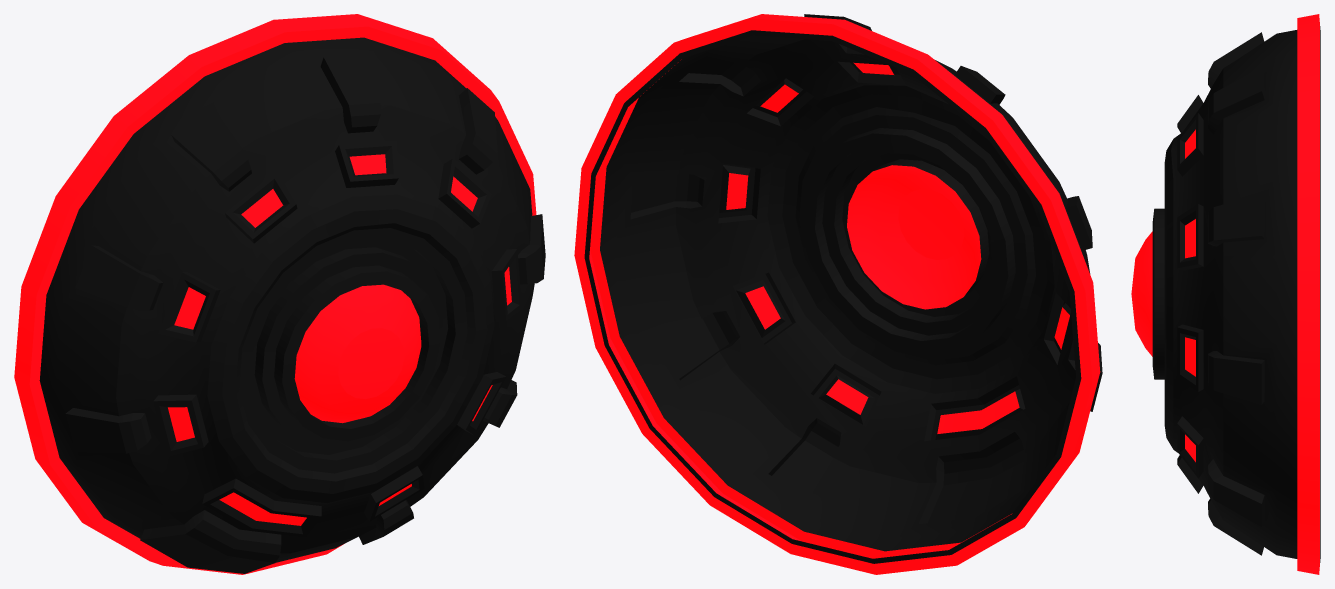
File: tiny mine.fbx
The picture shows the model from 3 angles, left to right: view 1: azimuth 30°, elevation 25°; view 2: azimuth 150°, elevation 25°; view 3: azimuth 270°, elevation 25°; orthographic projection. The views are drawn at different scales.
Parts seen in each view (by area): view 1: Sphere001; view 2: Sphere001; view 3: Sphere001.
Boxes of the visible parts, <box> form: Sphere001: <box>14,14,545,574</box>; Sphere001: <box>574,14,1102,574</box>; Sphere001: <box>1131,14,1320,574</box>.
Size of the model in its own units: 20.35 by 20.28 by 6.86.
